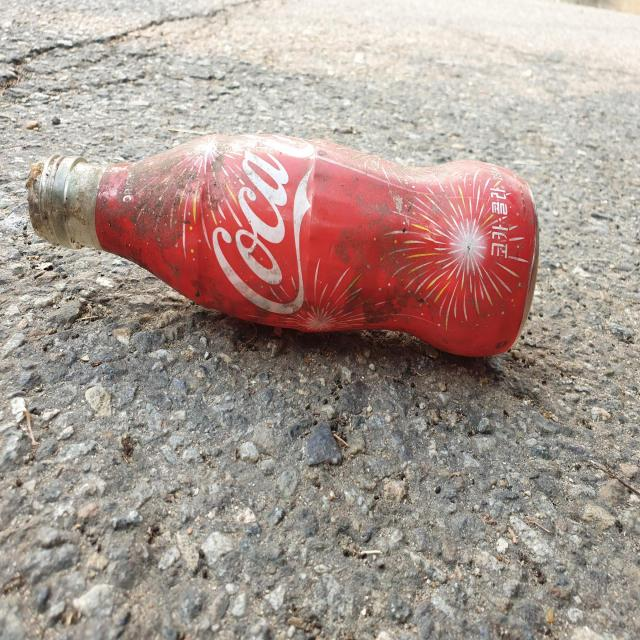glass: (26, 134, 539, 356)
